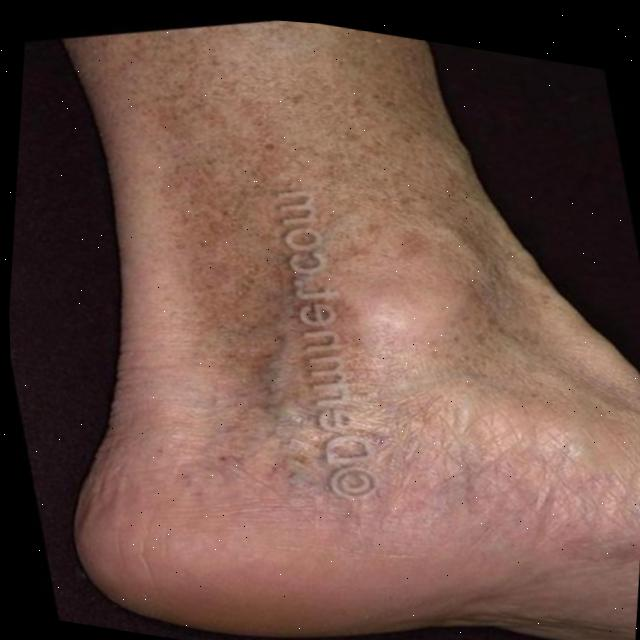Eczema: (135, 118, 357, 428)
